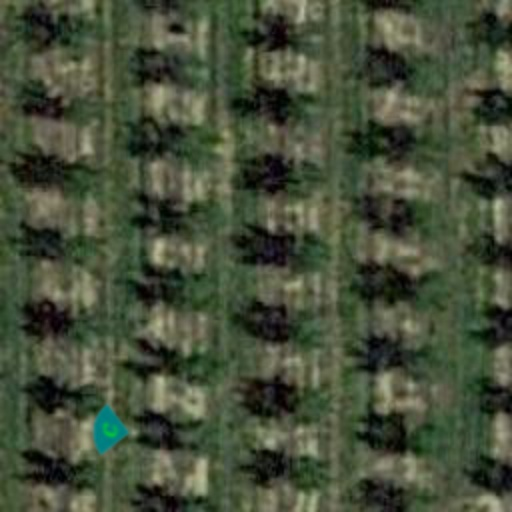quarter_circle: (80, 402, 136, 458)
